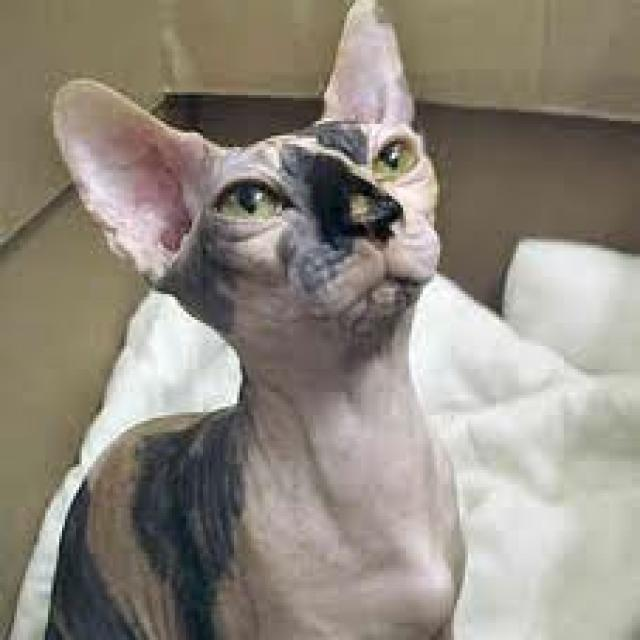Sphynx: (48, 0, 445, 346)
